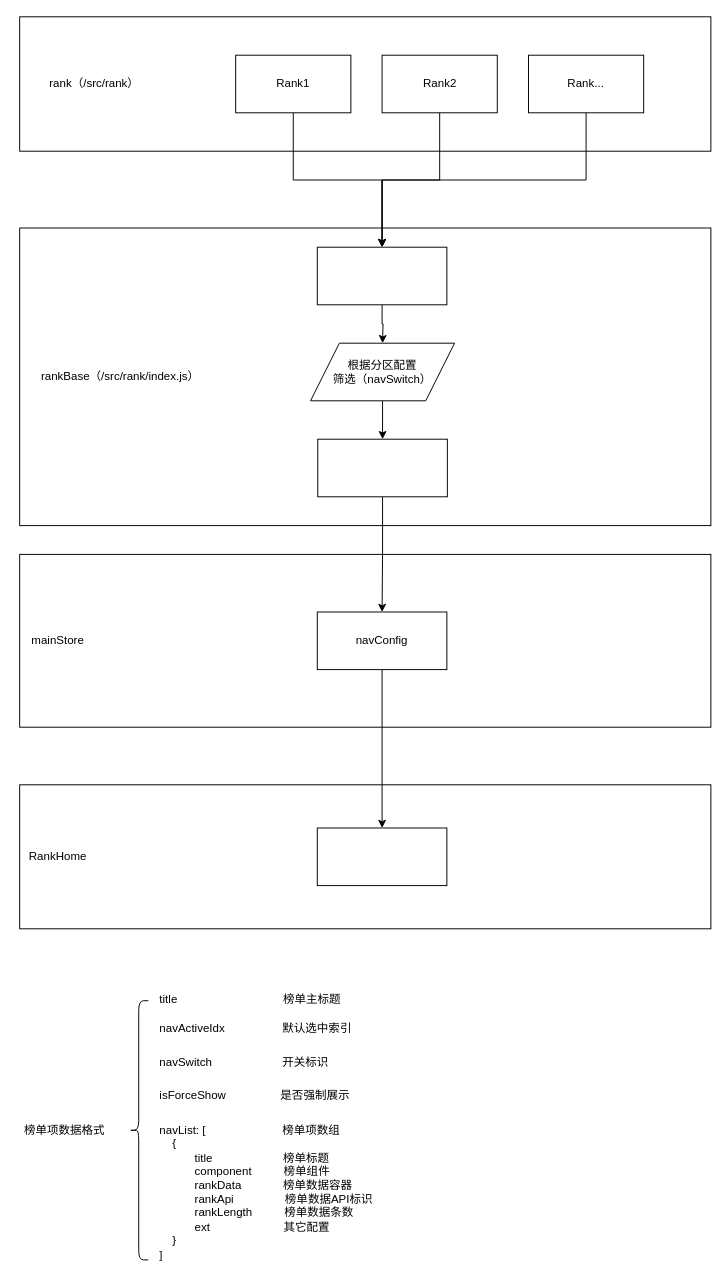
Image size: 728x1279. Some labels were removed from this diagram. Here are the shapes that lost their labels. From the top down, the centre of each, then its label:
At point (381, 275): "ranks".
At point (382, 467): "show ranks".
At point (381, 856): "render".
